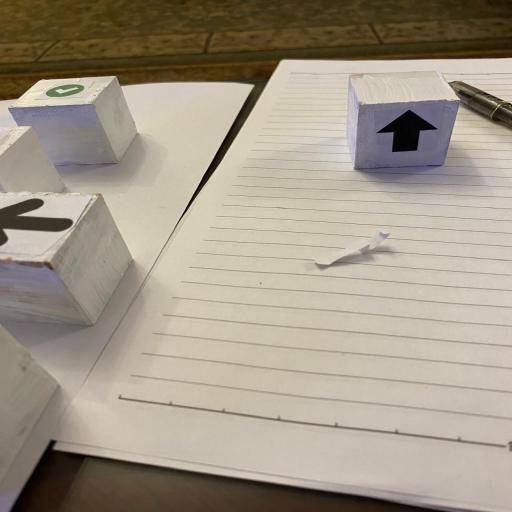Up: (344, 70, 462, 172)
